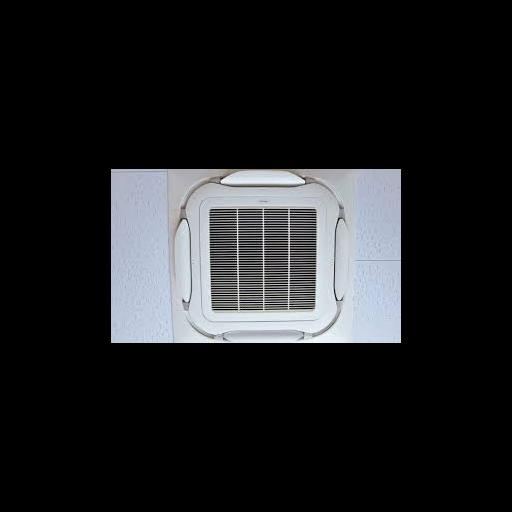4-way-ac: (167, 169, 358, 342)
